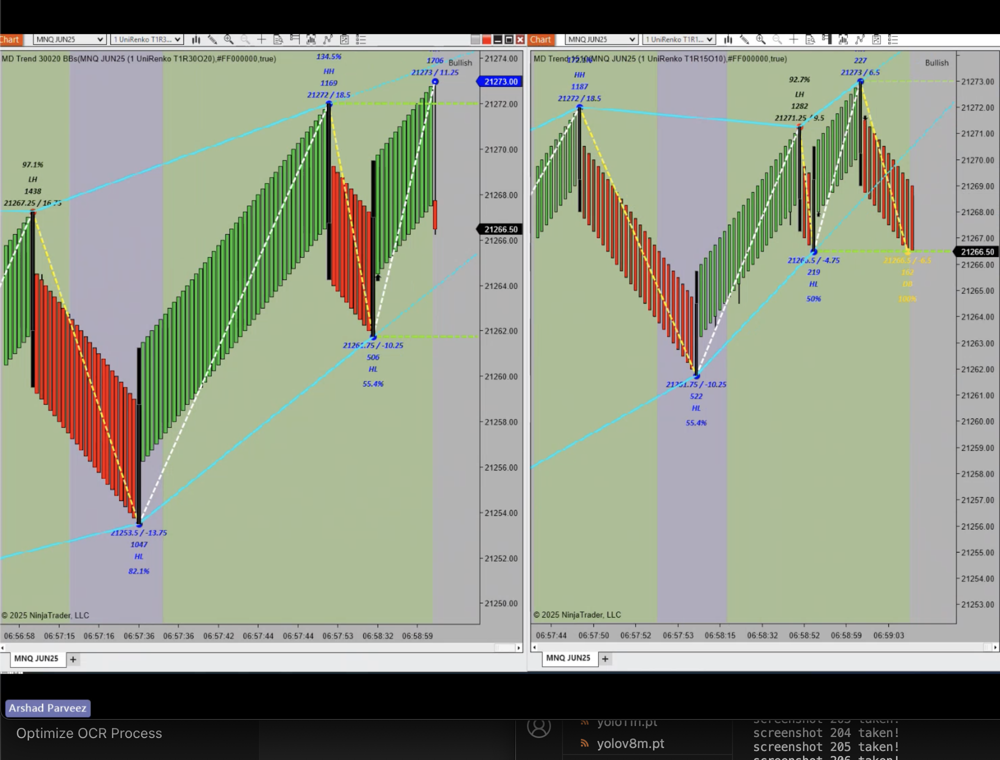HH: (319, 64, 347, 80), (570, 66, 596, 83)
HL: (126, 547, 151, 565), (683, 399, 708, 415), (363, 363, 387, 379), (806, 277, 828, 293)
LH: (788, 89, 816, 106), (20, 172, 47, 187)
